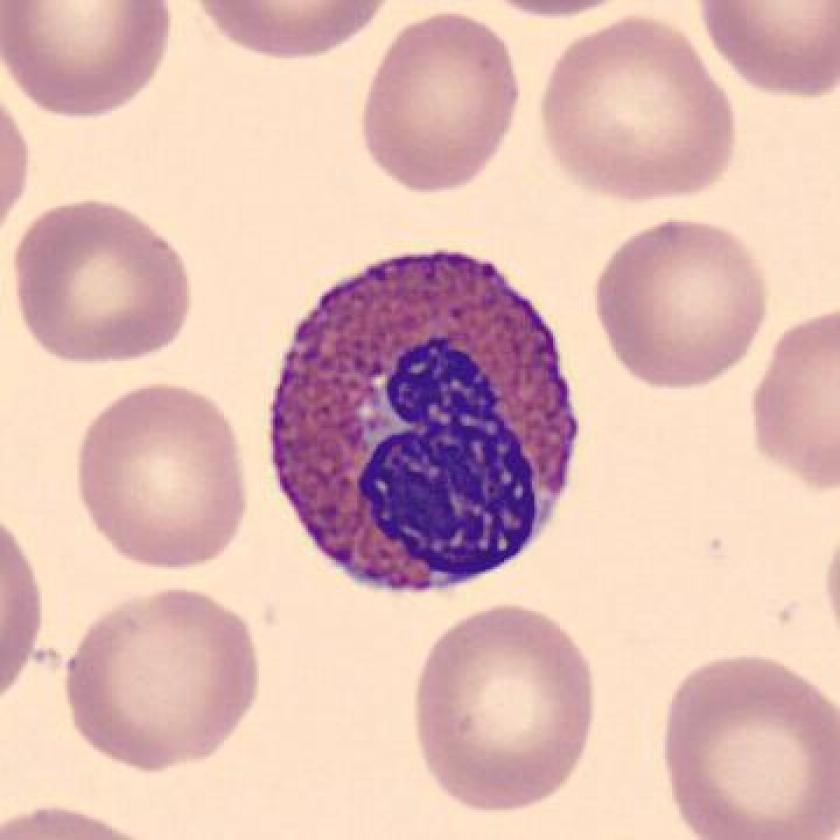eosinophil: (258, 237, 589, 607)
